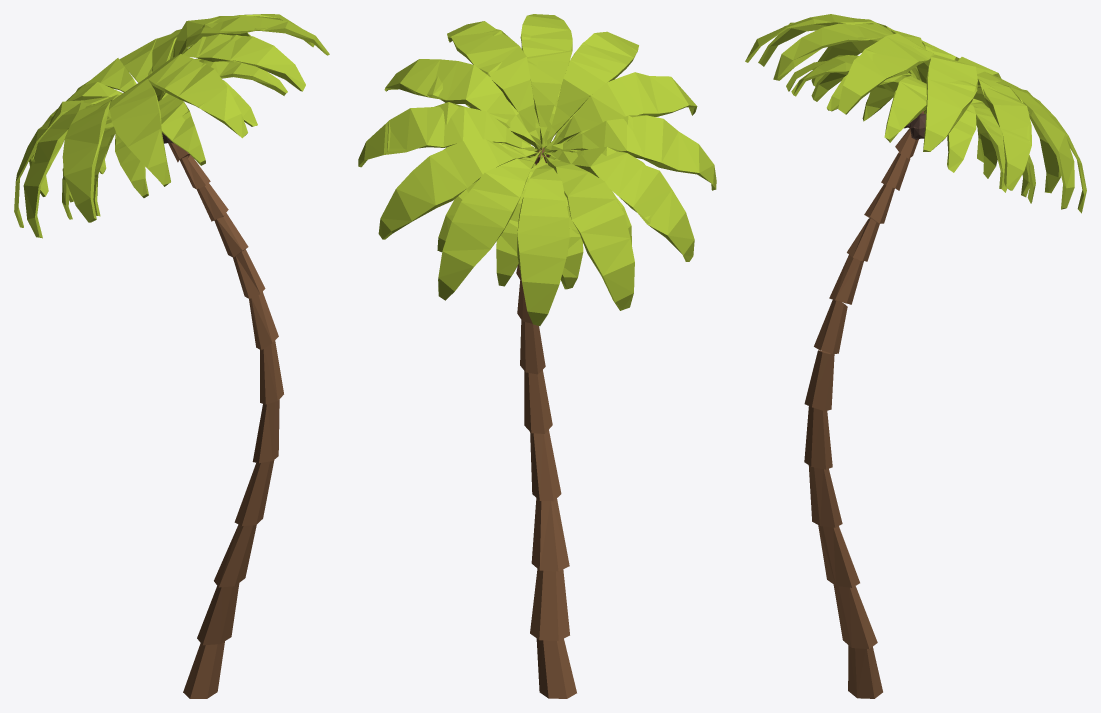
Rendered from Desert_PalmTree2.fbx.
The picture shows the model from 3 angles, left to right: view 1: azimuth 30°, elevation 25°; view 2: azimuth 150°, elevation 25°; view 3: azimuth 270°, elevation 25°; orthographic projection. The views are drawn at different scales.
Visible parts, largest first — view 1: Cube.006; view 2: Cube.006; view 3: Cube.006.
Part boxes in pixels (bbox=[...]): Cube.006: bbox=[14, 14, 329, 698]; Cube.006: bbox=[358, 14, 716, 698]; Cube.006: bbox=[745, 14, 1086, 698].
Size of the model in its own units: 489 by 1037 by 477.
